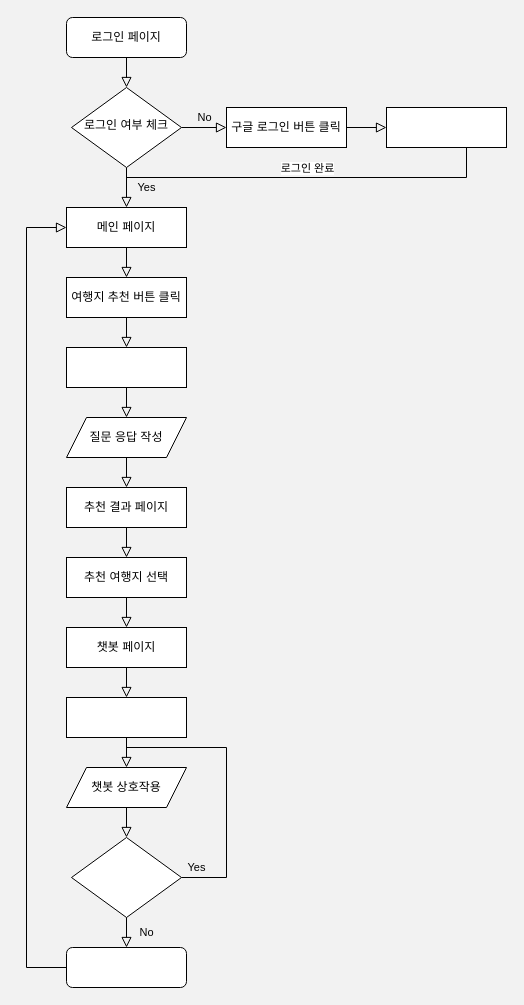
Some shapes in this 524 by 1005 pixel diagram are drawn without their labels. Here are the shapes that lost their labels. From the top down, the box of each, then its label:
(386, 106, 506, 148): 로그인 진행
(66, 346, 186, 388): 질문 페이지
(66, 696, 186, 738): 여행지 정보 확인
(70, 836, 182, 918): 추가 질문 필요
(66, 946, 186, 988): 추천 완료
